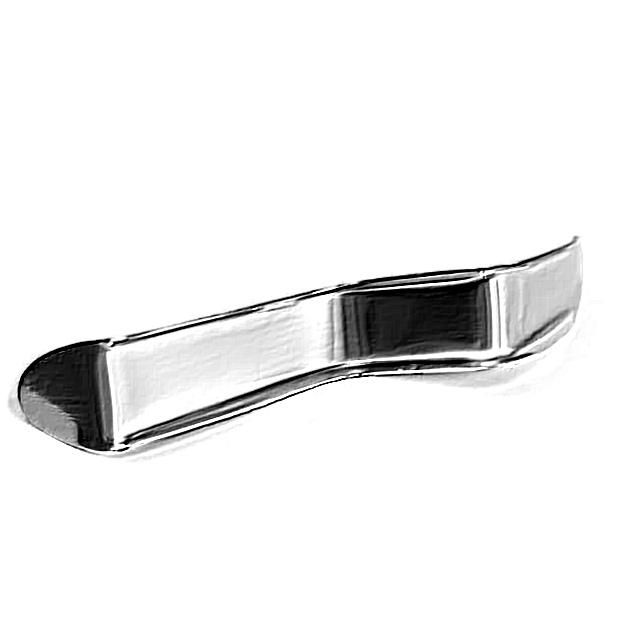separador: (16, 240, 582, 461)
